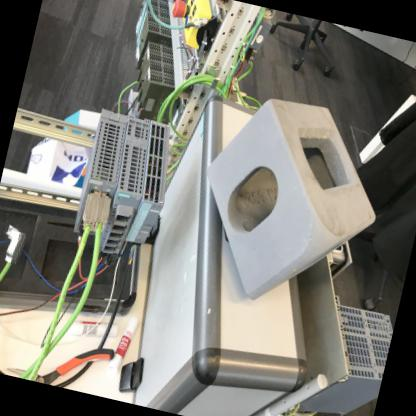CornerCasting: (178, 80, 401, 324)
